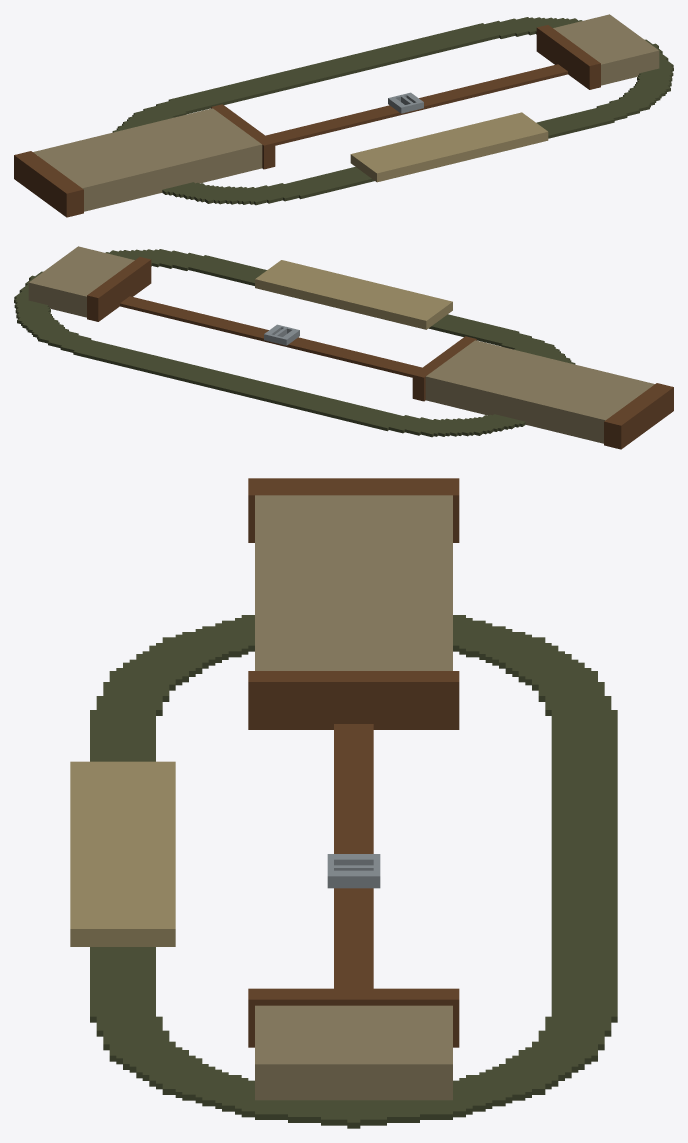
Rendered from bow_sling.glb.
The picture shows the model from 3 angles, top to bottom: view 1: azimuth 30°, elevation 25°; view 2: azimuth 150°, elevation 25°; view 3: azimuth 270°, elevation 25°; orthographic projection. The views are drawn at different scales.
Visible parts, largest first — view 1: bow_sling:compound; view 2: bow_sling:compound; view 3: bow_sling:compound.
Boxes of the visible parts, x1,y1,x2,y2 form: bow_sling:compound: (14, 14, 673, 217); bow_sling:compound: (14, 246, 673, 449); bow_sling:compound: (70, 478, 617, 1128).
Size of the model in its own units: 0.864 by 0.032 by 0.332.
